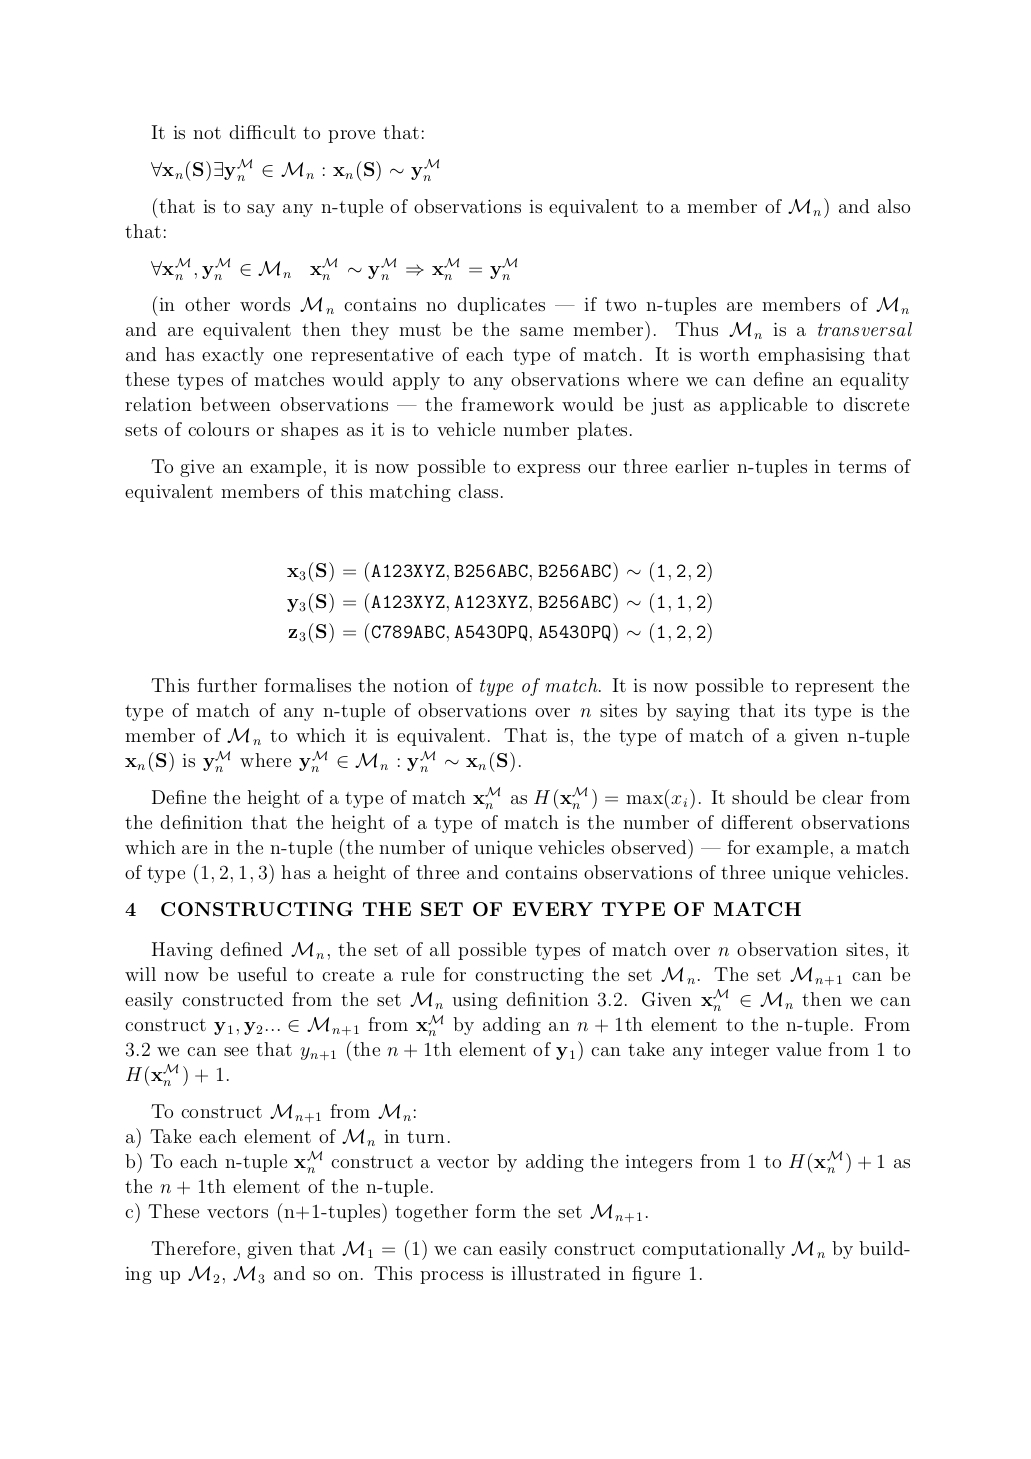formula: (287, 561, 711, 582), (287, 592, 711, 613), (151, 257, 517, 280), (288, 622, 711, 642), (151, 158, 439, 181)
